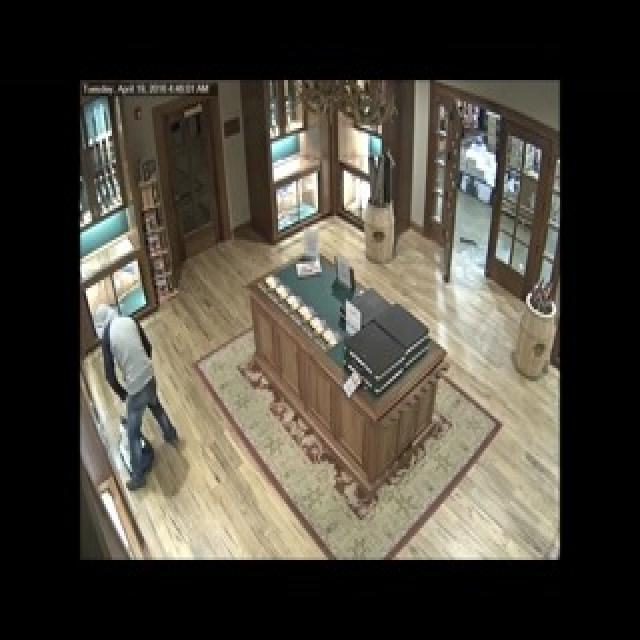thief: (86, 299, 182, 479)
